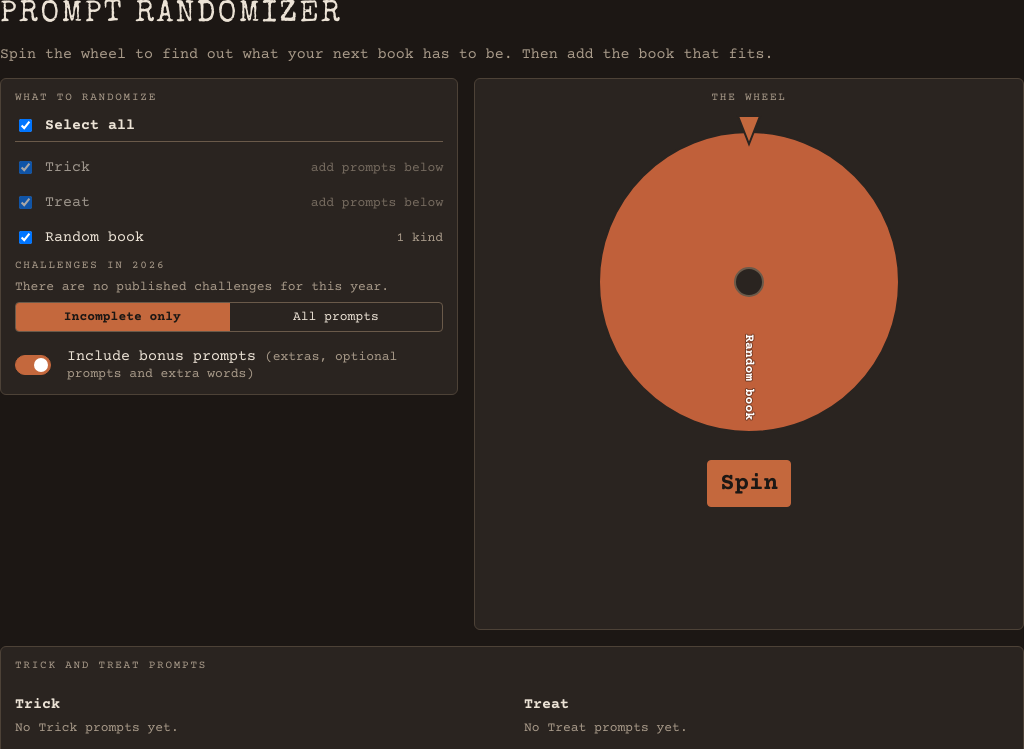
Scenario: select all and covers › shows the cover of the random book, and the kind of random book it is
Step 1. Click the button "Spin" → (749, 484), box [707,460,791,507]
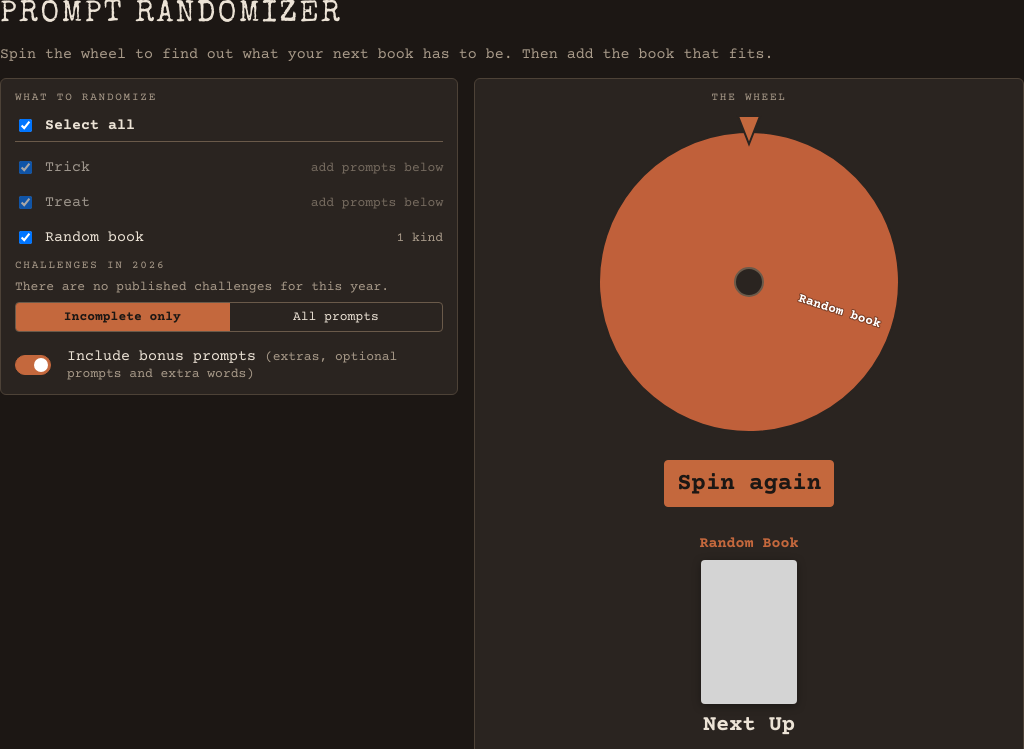
Check: the text with class "rzkind" reads "Random Book", box [700,535,798,552]
